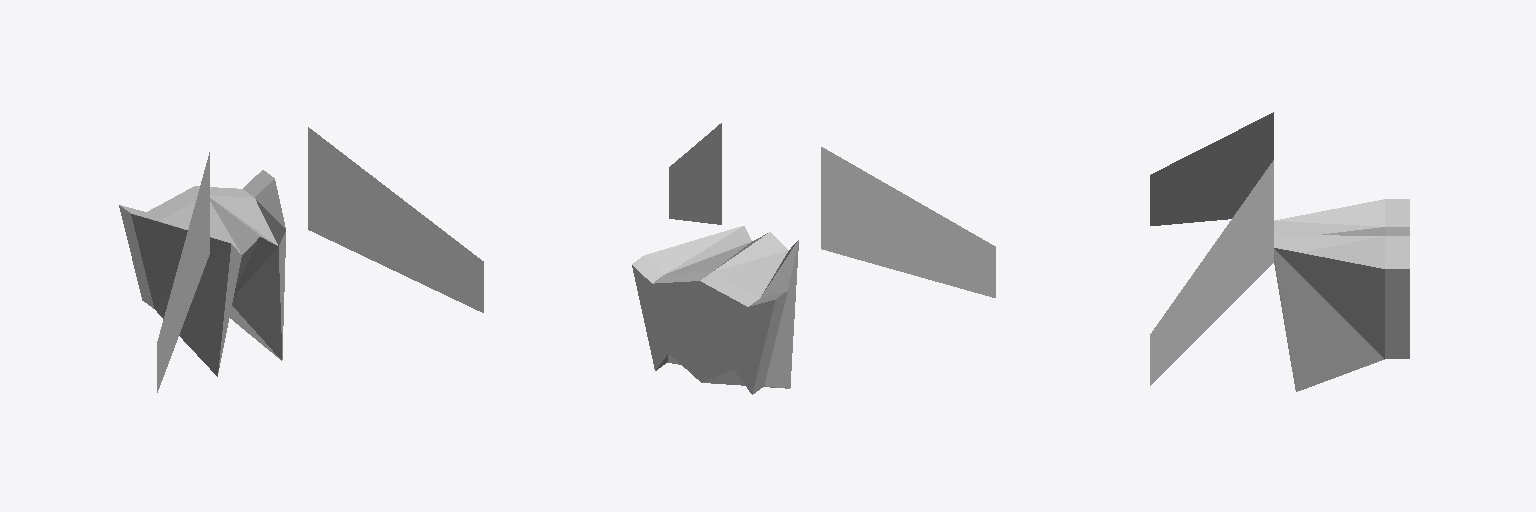
File: bruteHeadCharge.obj
The picture shows the model from 3 angles: view 1: azimuth 30°, elevation 25°; view 2: azimuth 150°, elevation 25°; view 3: azimuth 270°, elevation 25°; orthographic projection.
Parts seen in each view (by area): view 1: Object.1; view 2: Object.1; view 3: Object.1.
Boxes of the visible parts, x1,y1,x2,y2 form: Object.1: [119, 127, 483, 392]; Object.1: [632, 123, 995, 394]; Object.1: [1150, 112, 1409, 391].
Bounding box in the file's own units: 66.34 × 46.42 × 45.55.